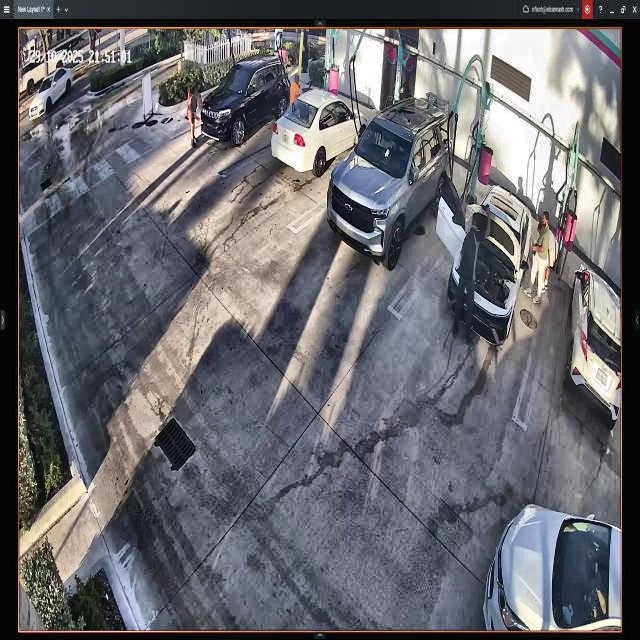Car: (328, 99, 454, 268), (438, 171, 534, 342), (271, 90, 367, 177), (200, 60, 291, 142)
